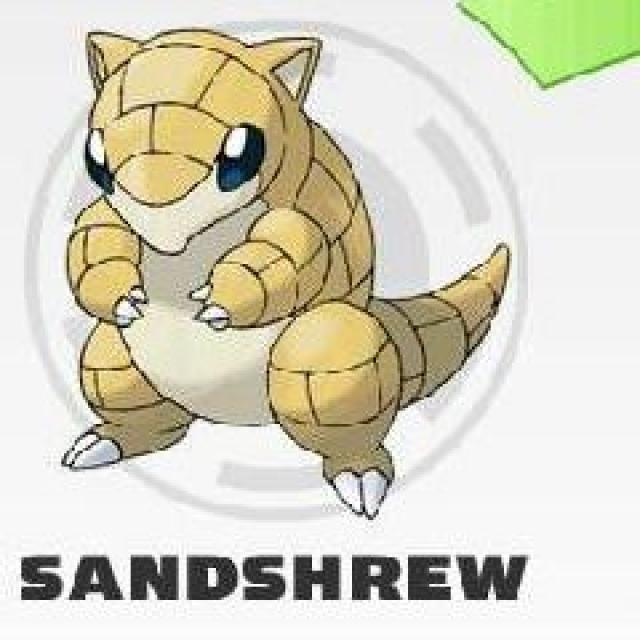Sandshrew: (39, 23, 418, 465)
